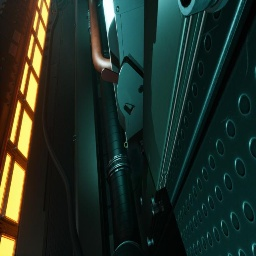SafetySwitchPanel ,: (101, 0, 144, 153)
